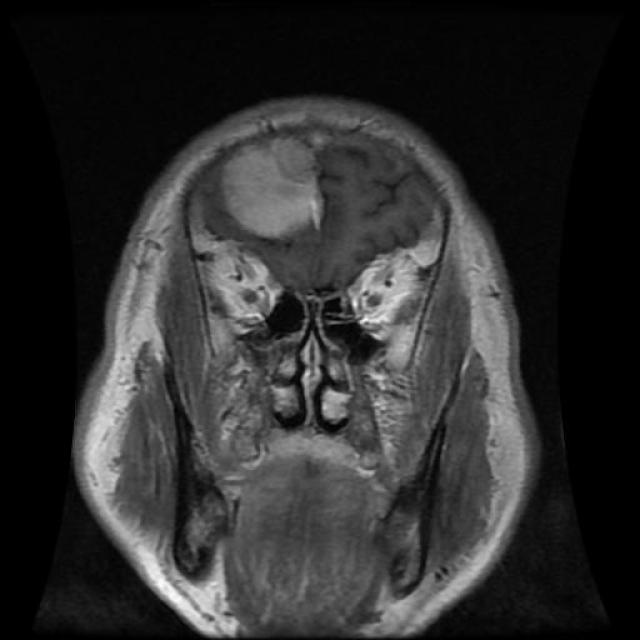meningioma: (216, 136, 339, 250)
